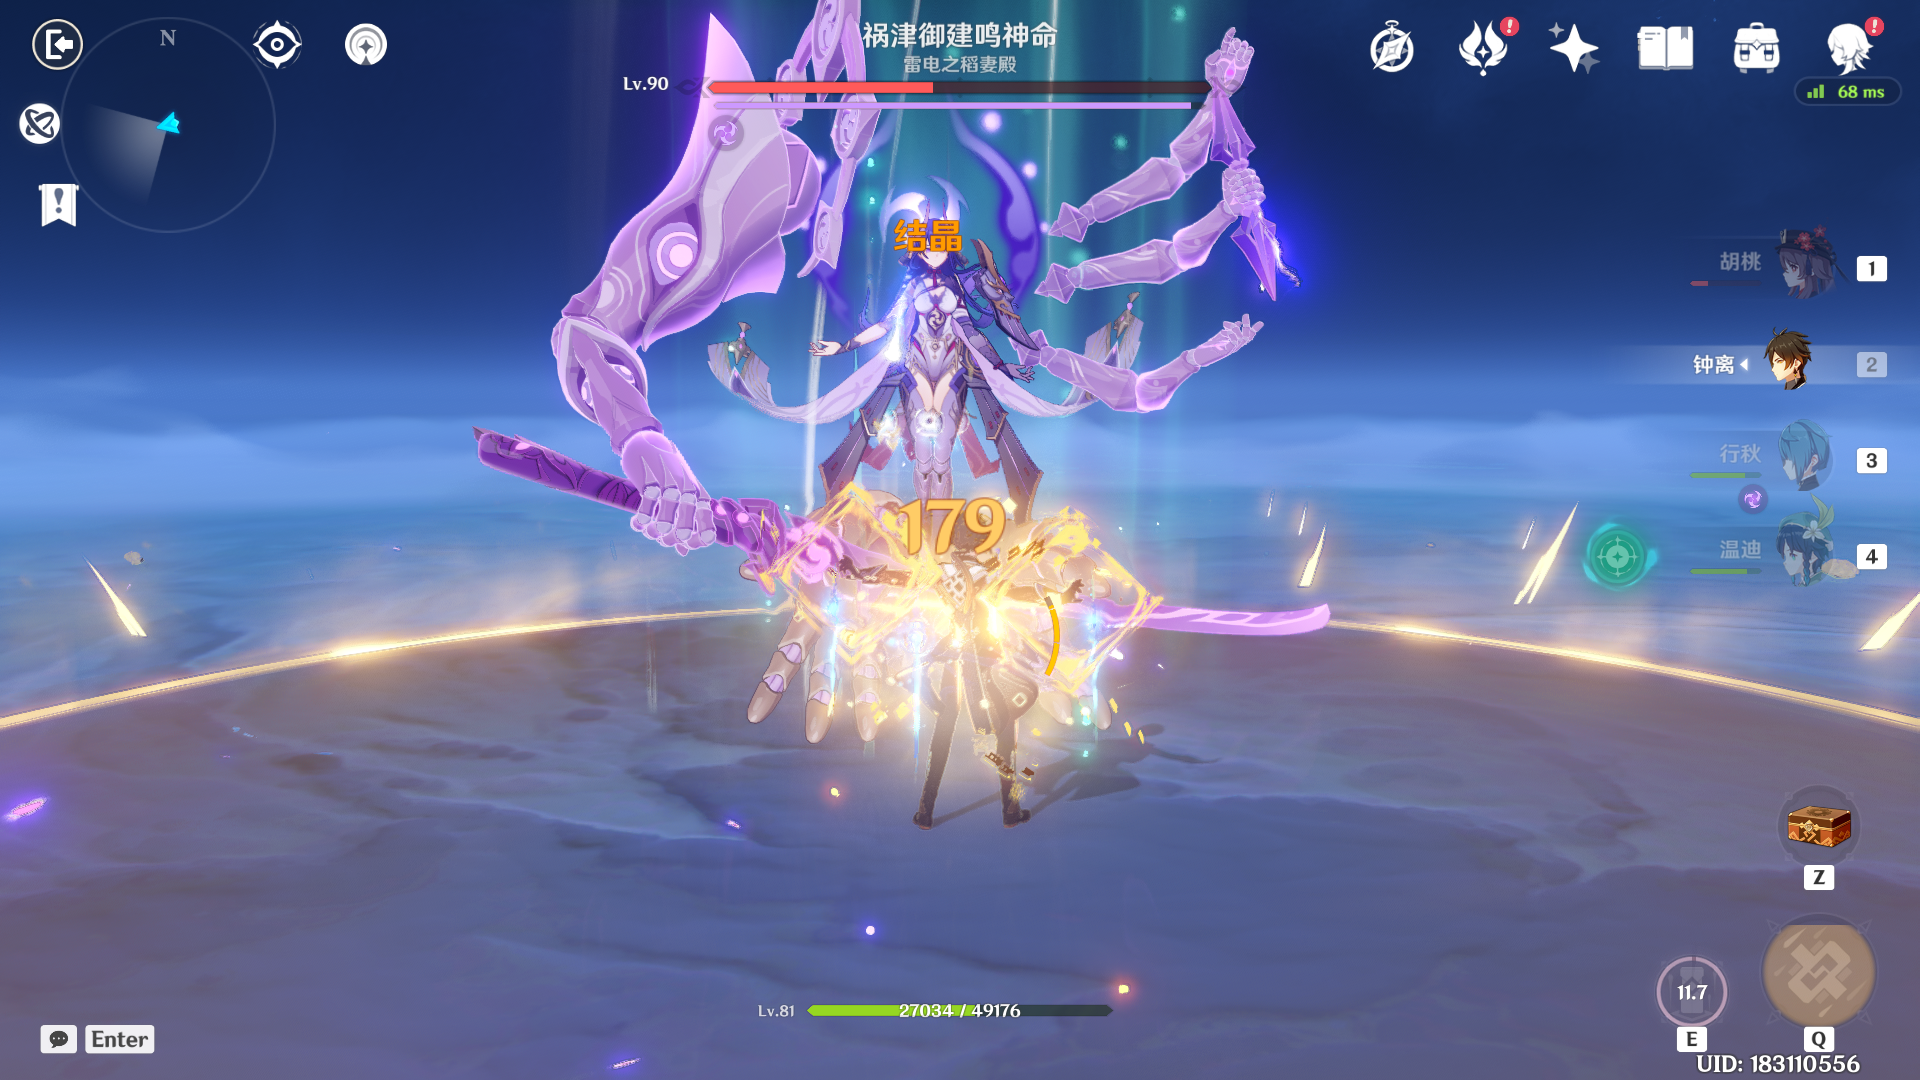character: (818, 195, 1065, 624), (825, 480, 1084, 860)
